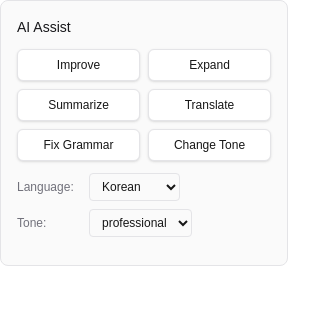
it: AiAssistPanel › should show result after action completes
Click the button with test id "assist-improve" at (78, 65), box [17,49,140,81]
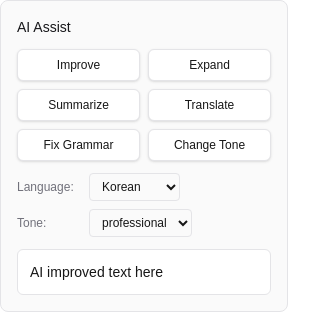
Expected: the text "AI improved text here" is shown, [17,249,271,295]
